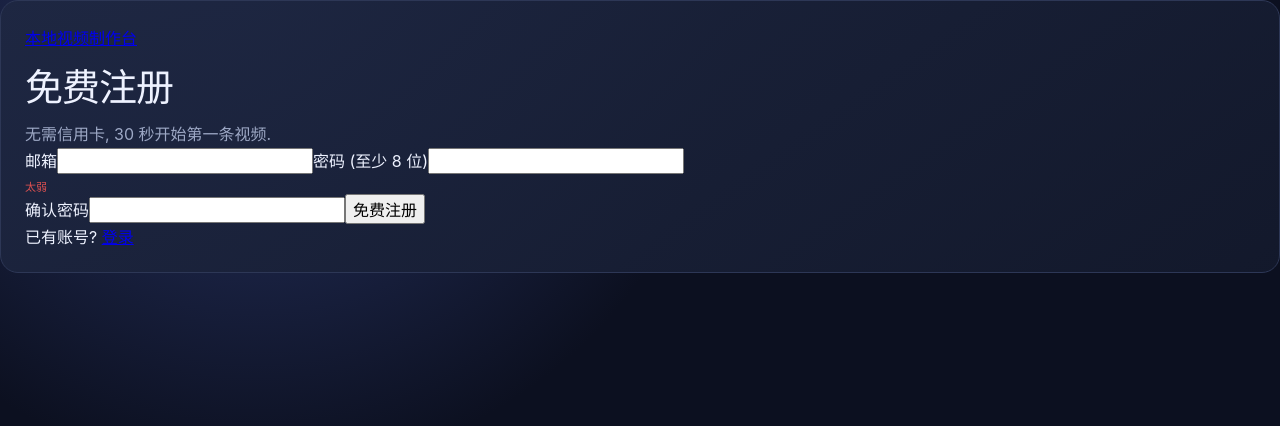
Test: SignupPage R9 (rev38) › invalid email -> 邮箱格式不对
The image size is (1280, 426).
Type "not-an-email" into the field labelled "邮箱" at (185, 161), box [57,148,313,174]
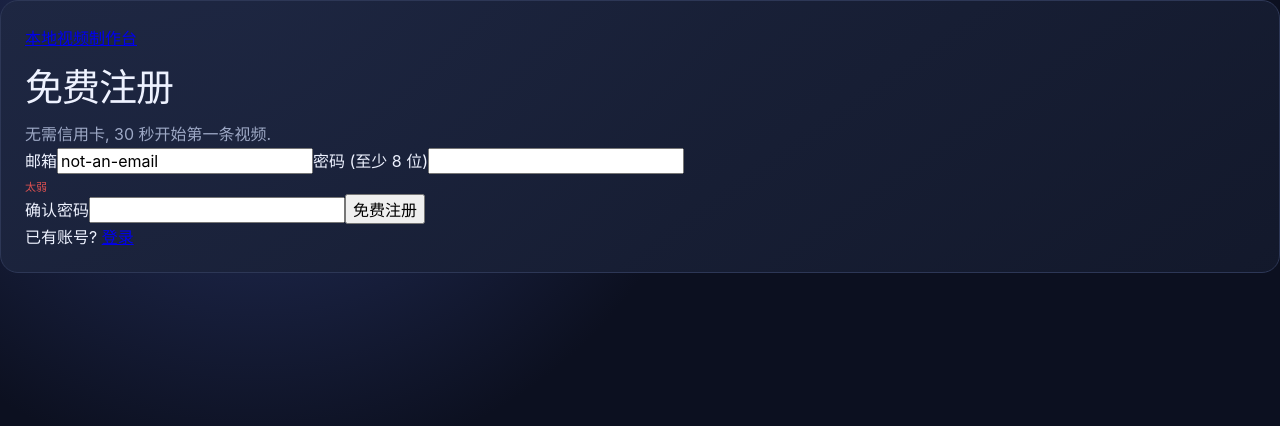
Type "Abcd1234!" into the password field labelled "密码 (至少 8 位)" at (556, 161), box [428,148,684,174]
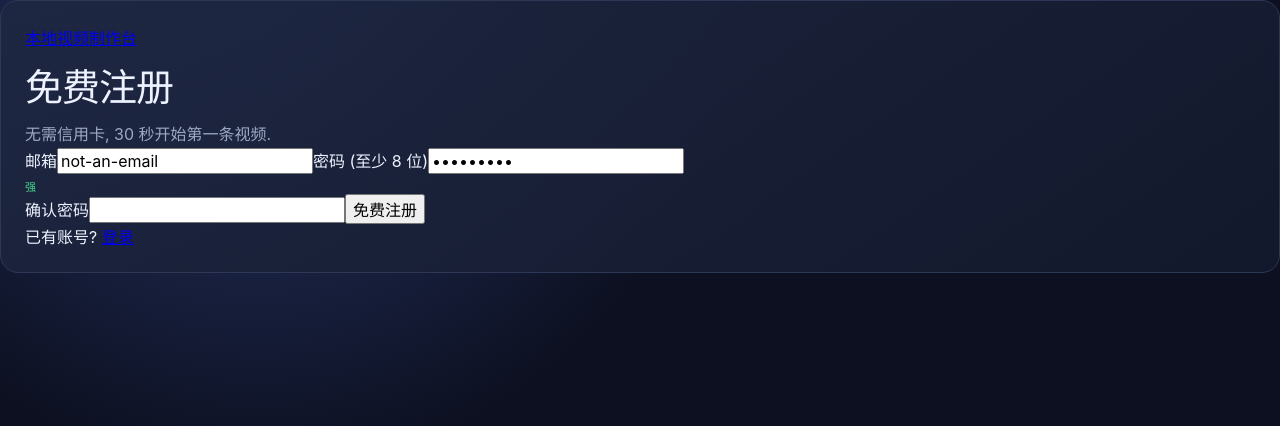
Type "Abcd1234!" into the password field labelled "确认密码" at (217, 210), box [89,197,345,223]
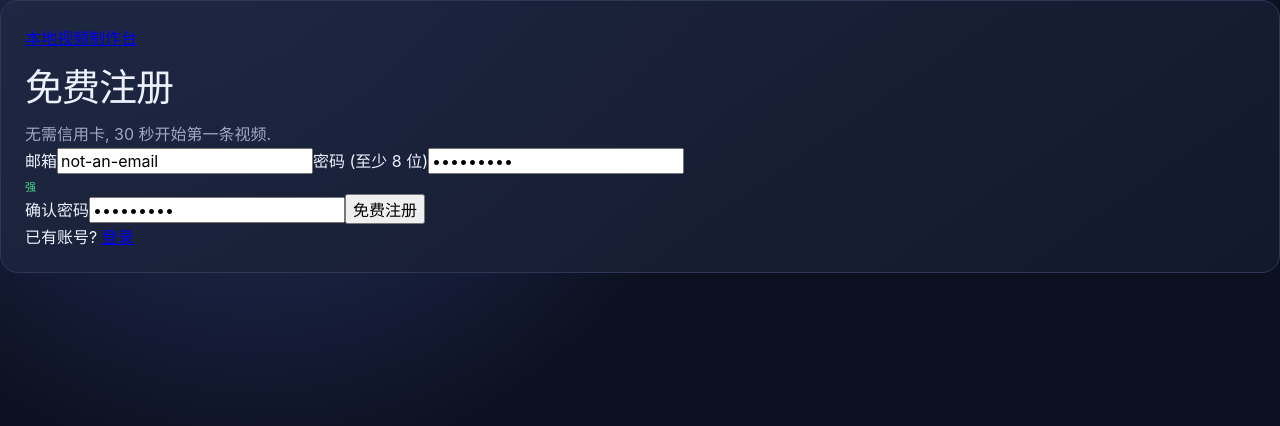
Submit the form, box [25,148,684,224]
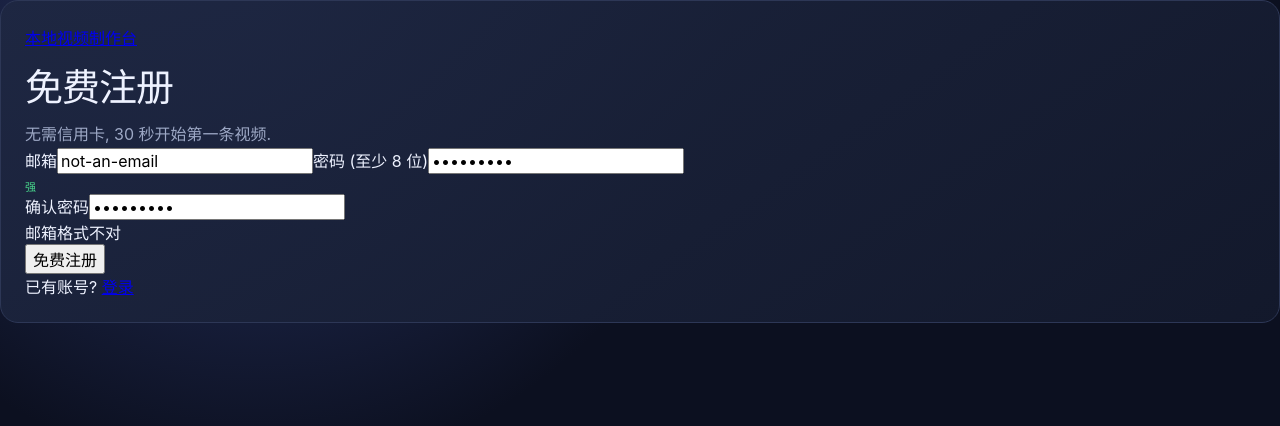
Now the text with class "err" reads "邮箱格式不对", box [25,223,121,243]
